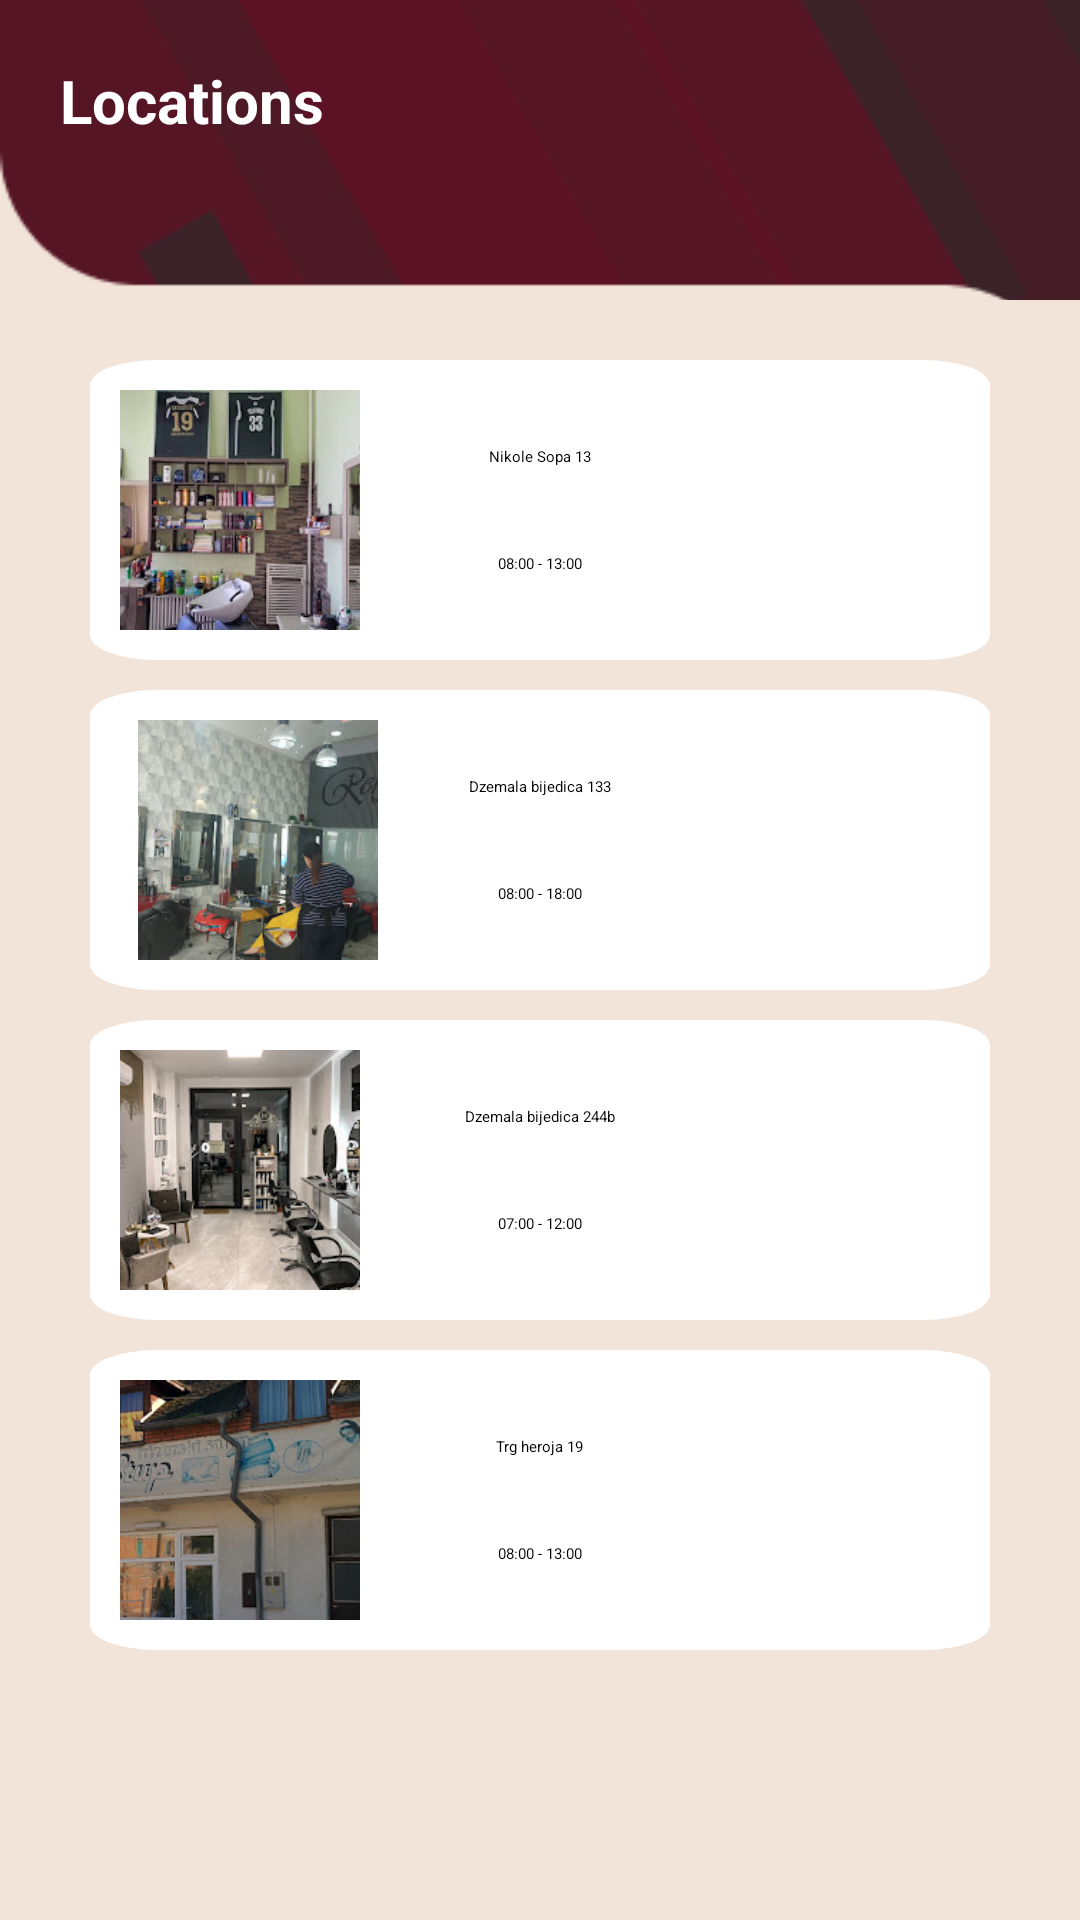

Where icons sit on this 1080px x 1920px app screen, as (x1, y1, x2, y2):
salon: (120, 390, 360, 630), (138, 720, 378, 960), (120, 1050, 360, 1290), (120, 1380, 360, 1620)
